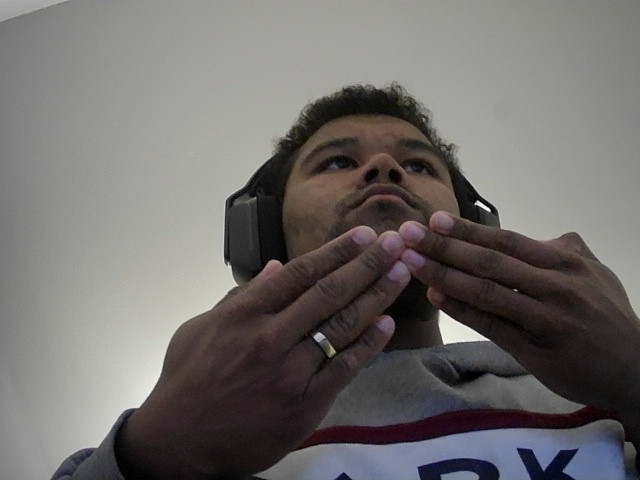ThankYou: (124, 210, 640, 478)
